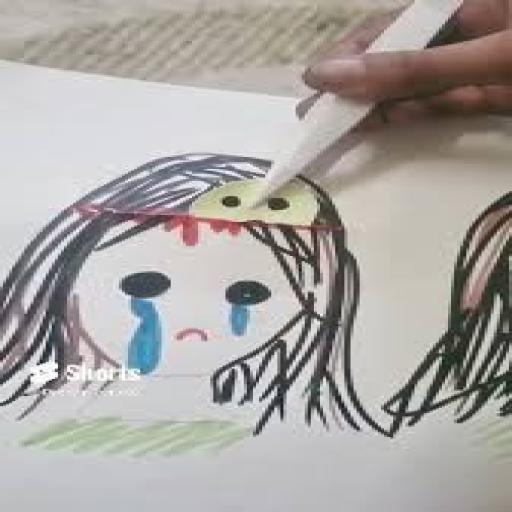person: (6, 148, 374, 462)
